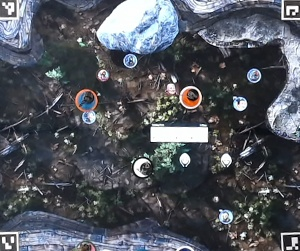light_blue_orange: (74, 89, 97, 112)
orange: (179, 86, 202, 109)
white: (130, 159, 153, 182)
